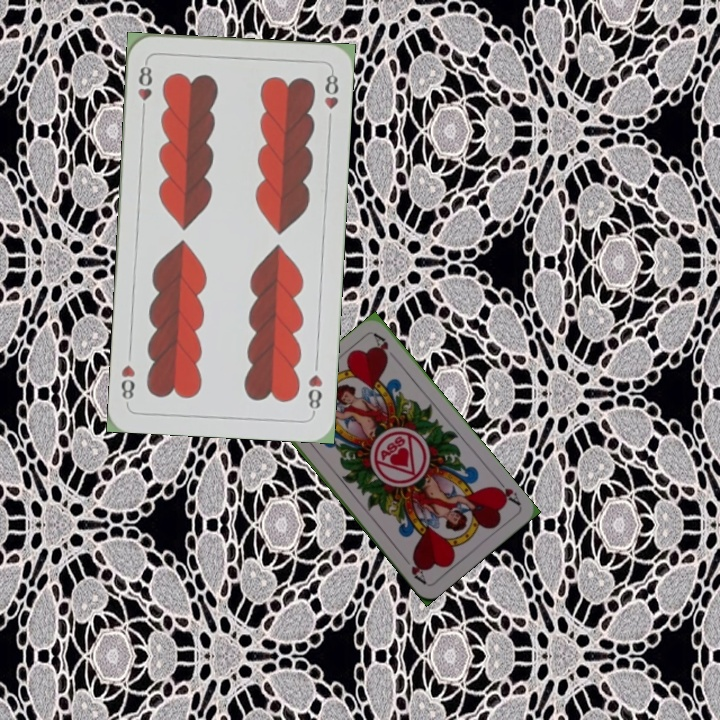H8: (134, 58, 155, 117), (304, 370, 325, 416)
HA: (489, 474, 523, 509)
